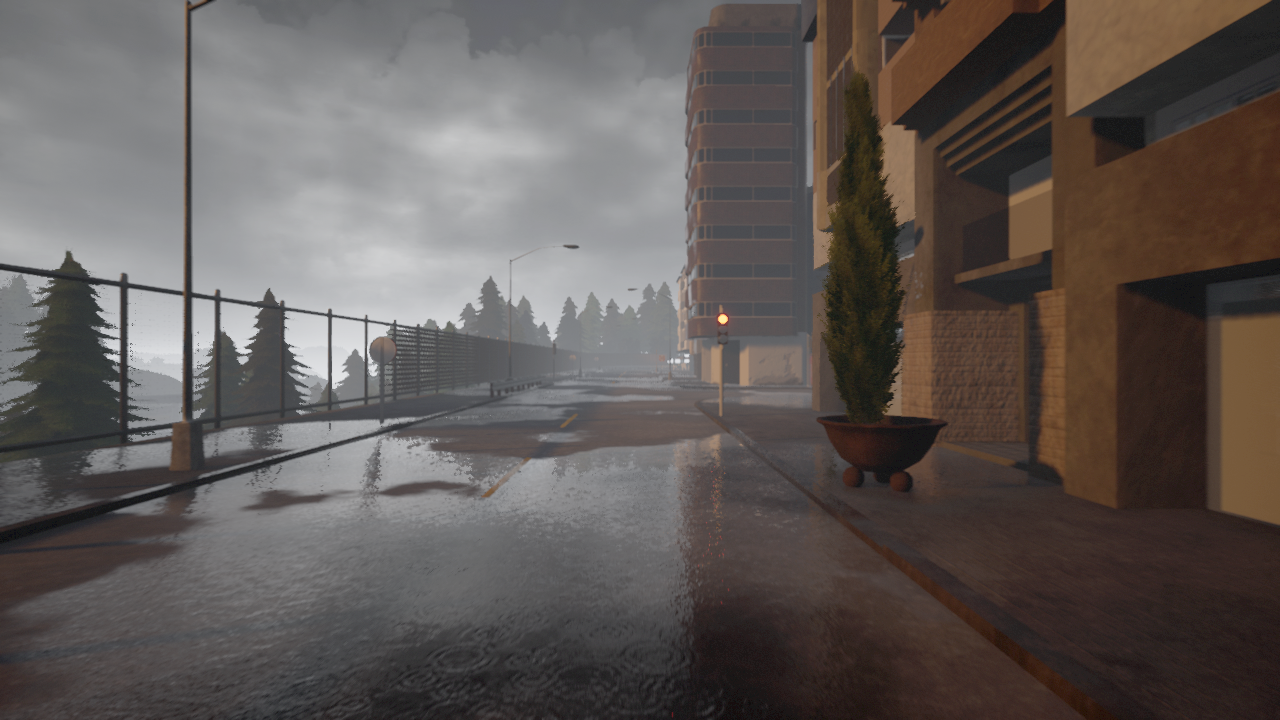red: (715, 311, 728, 346)
